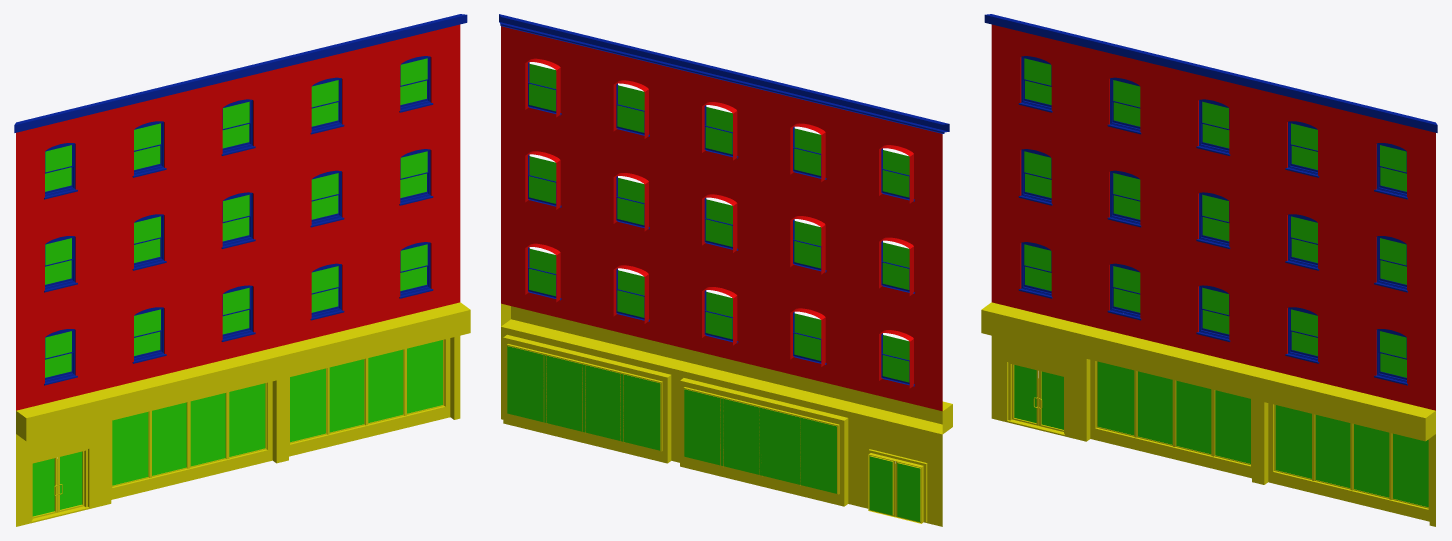
The model's file is MDL_U_B2_V2_Back.fbx.
3 renders of one model, left to right at view 1: azimuth 30°, elevation 25°; view 2: azimuth 150°, elevation 25°; view 3: azimuth 330°, elevation 25°, orthographic.
Visible parts, largest first — view 1: MDL_U_B2_V2_Back; view 2: MDL_U_B2_V2_Back; view 3: MDL_U_B2_V2_Back.
Boxes of the visible parts, x1=… form: MDL_U_B2_V2_Back: x1=14, y1=14, x2=470, y2=526; MDL_U_B2_V2_Back: x1=499, y1=14, x2=952, y2=526; MDL_U_B2_V2_Back: x1=981, y1=14, x2=1437, y2=526.
Bounding box in the file's own units: 2040 × 1740 × 122.
